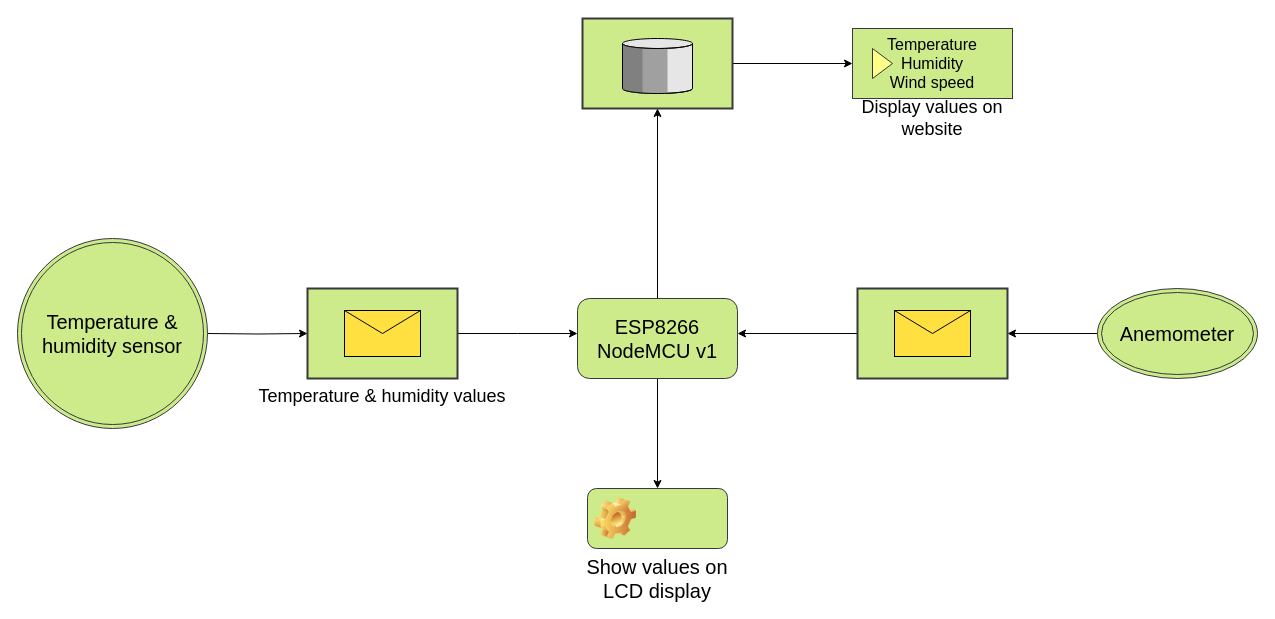
The diagram is 1275 pixels wide and 619 high, and some of its shapes have lost their labels. Here are the shapes that lost their labels. From the top down, the centre of each, then its label:
At point (657, 63): "Website database".
At point (932, 333): "Wind speed".
At point (657, 518): "LCD Display".
